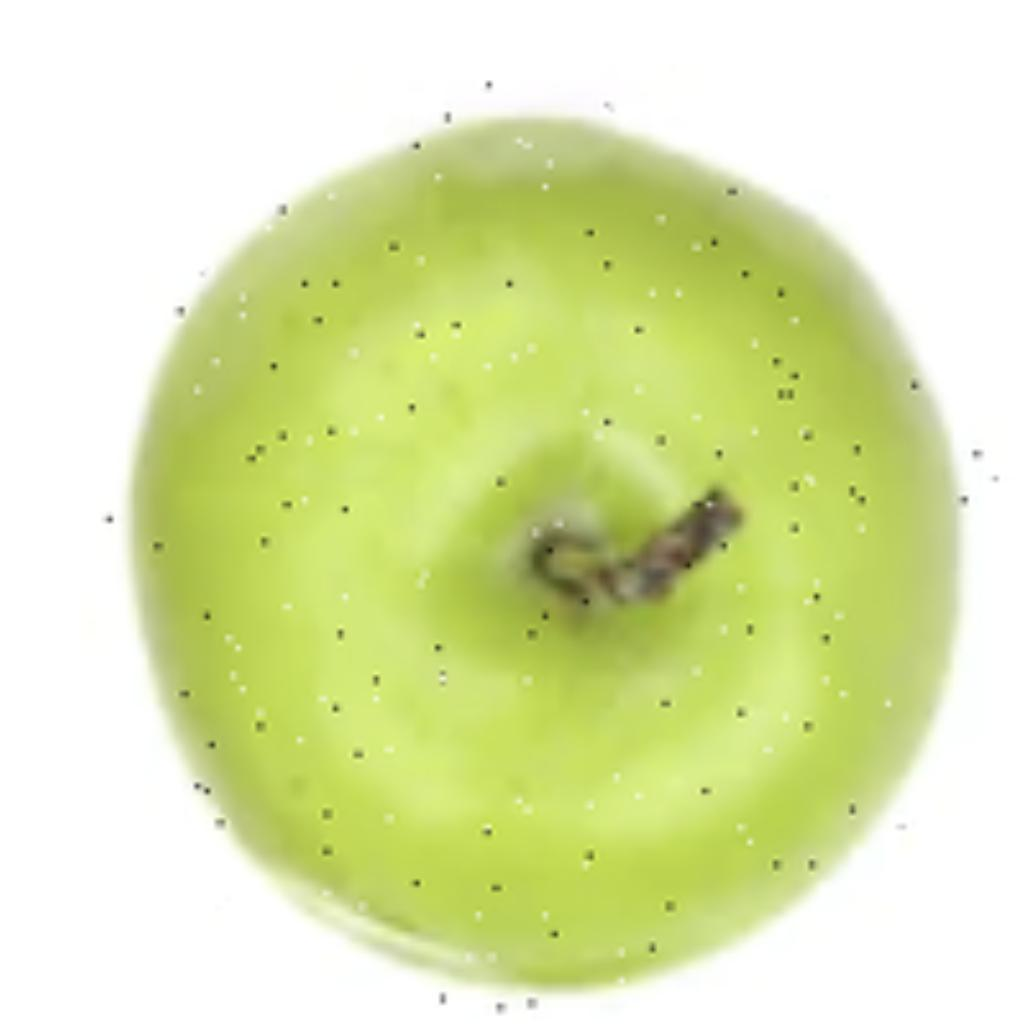apple: (97, 81, 983, 1014)
